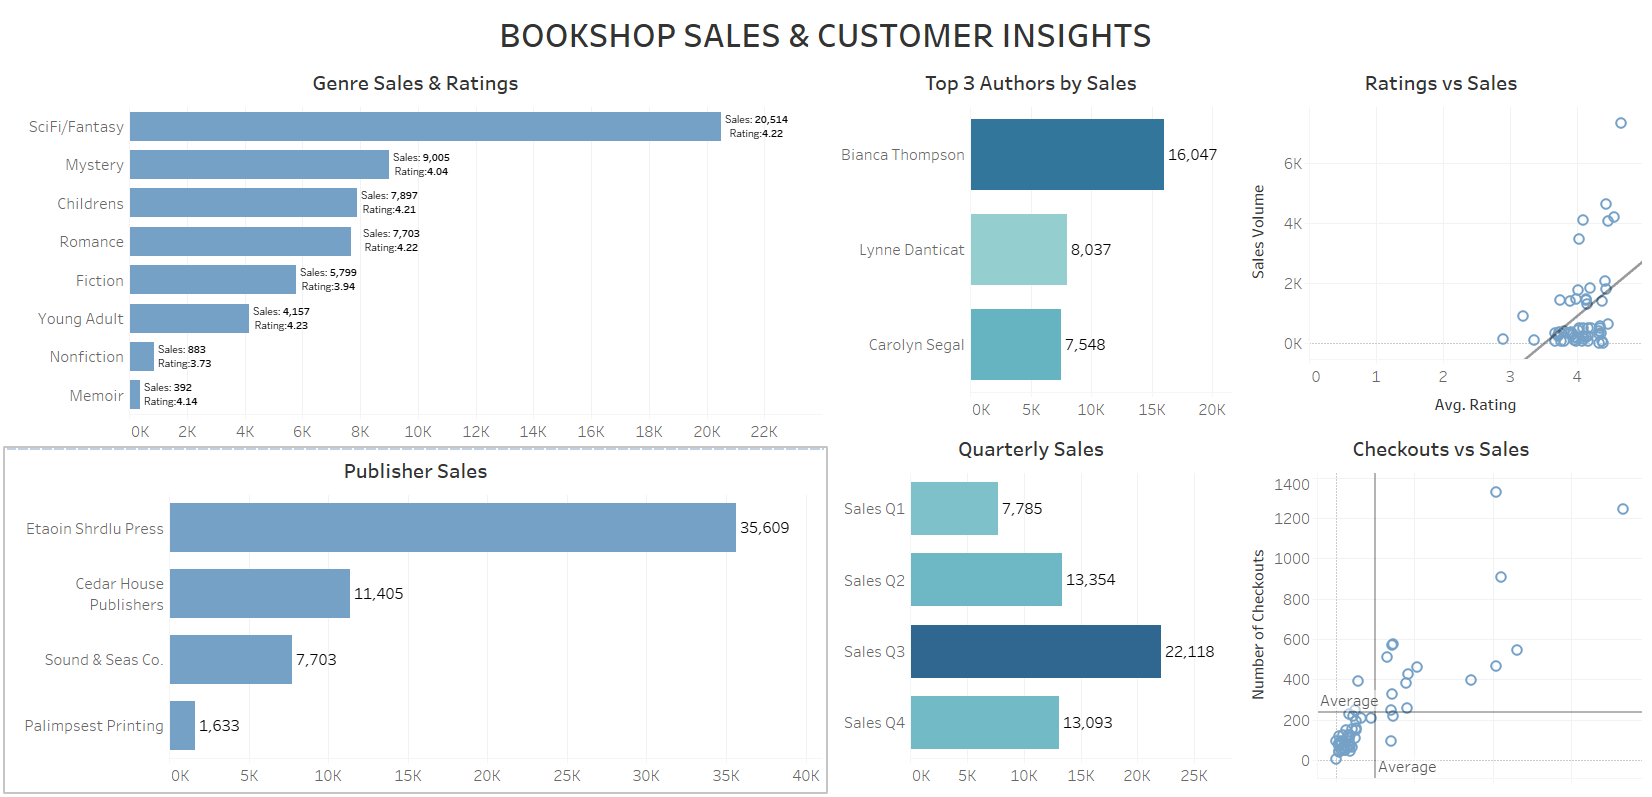

Layout of this report page (visuals, bound fields, positions):
{"tool":"tableau","page":{"name":"BOOKSHOP SALES & CUSTOMER INSIGHTS","canvas":[1000,1000],"units":"permille","ordinal":0},"visuals":[{"type":"title","box":[4.8,10,990.3,66.2]},{"type":"worksheet","title":"Genre Sales & Ratings","mark":"Automatic","rows":["Genre"],"cols":["Calculation_703687466410381312"],"box":[4.8,76.2,495.2,484.4]},{"type":"worksheet","title":"Top 3 Authors by Sales","mark":"Automatic","rows":["Calculation_412360871112339456"],"cols":["Calculation_703687466410381312"],"box":[500,76.2,247.6,456.9]},{"type":"worksheet","title":"Ratings vs Sales","mark":"Automatic","rows":["Calculation_703687466410381312"],"cols":["Rating"],"box":[747.6,76.2,247.6,456.9]},{"type":"worksheet","title":"Quarterly Sales","mark":"Automatic","rows":["Sheet"],"cols":["Calculation_703687466410381312"],"box":[500,533.1,247.6,456.9]},{"type":"worksheet","title":"Checkouts vs Sales","mark":"Automatic","rows":["Number of Checkouts"],"cols":["Calculation_703687466410381312"],"box":[747.6,533.1,247.6,456.9]},{"type":"worksheet","title":"Publisher Sales","mark":"Automatic","rows":["Publishing House"],"cols":["Calculation_703687466410381312"],"box":[4.8,560.6,495.2,429.4]}]}

Visuals, with their boxes on the dashboard's canvas, which has no fixed pixel size, in thousandths of its width and height (x1, y1, x2, y2). These are canvas units, not pixel positions in the 1652x797 screenshot, which may show the page scaled, cropped or inside an application window:
title: BBox(5, 10, 995, 76)
"Genre Sales & Ratings" worksheet: BBox(5, 76, 500, 561)
"Top 3 Authors by Sales" worksheet: BBox(500, 76, 748, 533)
"Ratings vs Sales" worksheet: BBox(748, 76, 995, 533)
"Quarterly Sales" worksheet: BBox(500, 533, 748, 990)
"Checkouts vs Sales" worksheet: BBox(748, 533, 995, 990)
"Publisher Sales" worksheet: BBox(5, 561, 500, 990)
